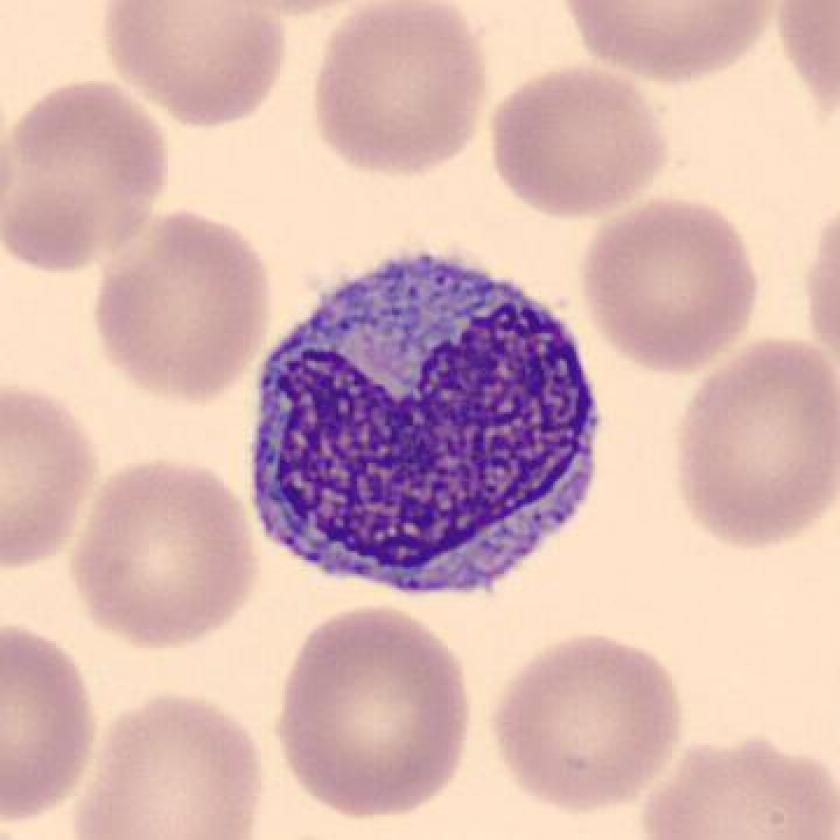monocyte: (227, 228, 624, 619)
